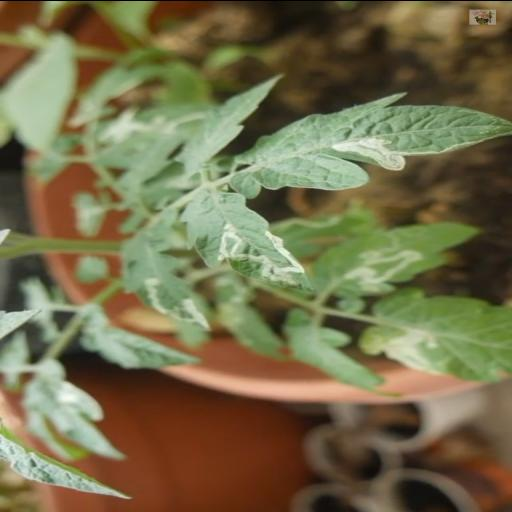disease_tomato: (226, 90, 512, 197), (173, 190, 311, 294)
